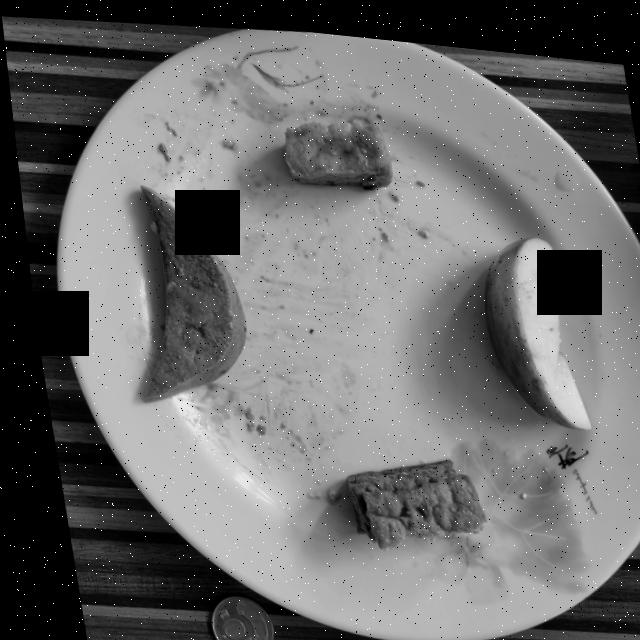apple -sliced-: (478, 226, 582, 418)
coin: (197, 593, 260, 640)
creamy tofu: (282, 110, 390, 182)
egg tofu: (337, 451, 475, 542)
pig liver: (134, 185, 239, 399)
